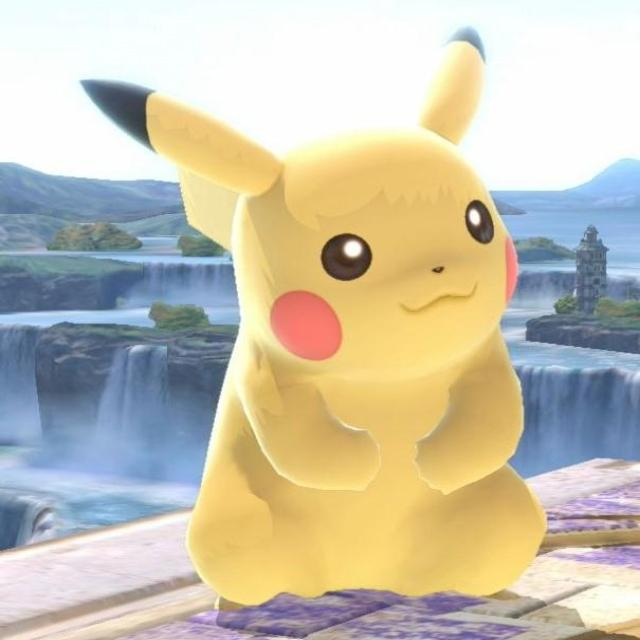pikachu: (79, 23, 547, 608)
